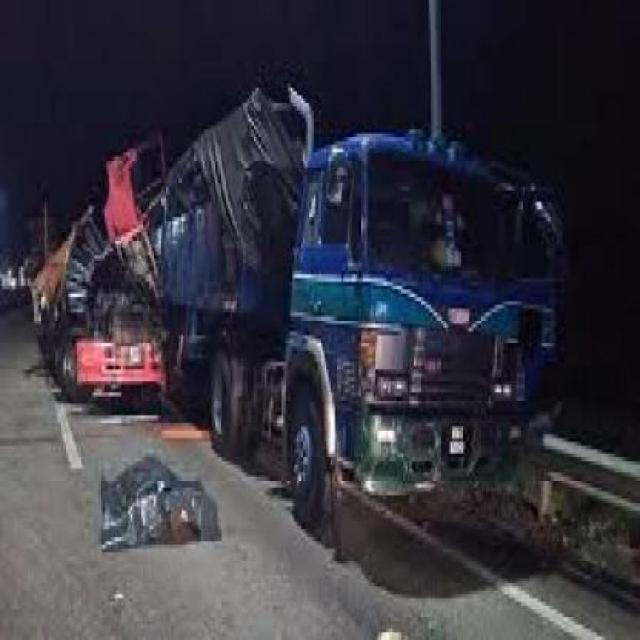accident: (26, 72, 572, 550)
